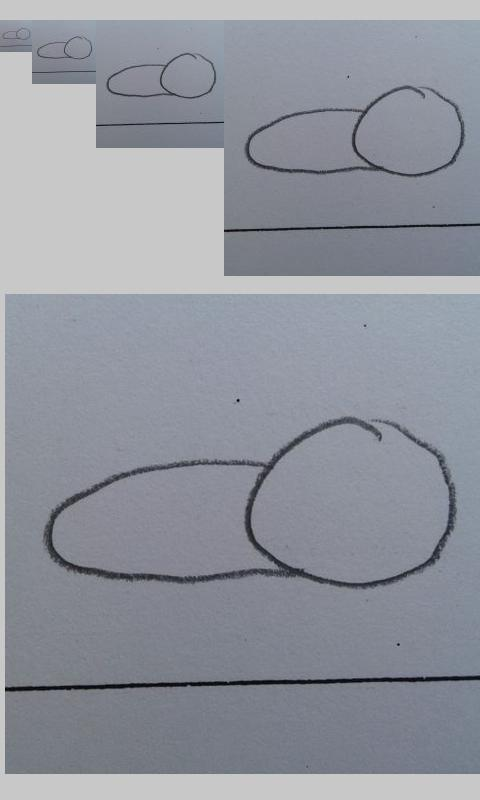switch: (42, 415, 459, 589), (243, 85, 465, 178), (106, 52, 216, 99), (37, 35, 93, 60), (2, 27, 31, 41)
